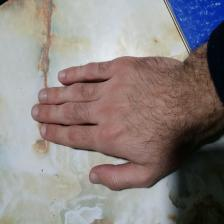five: (23, 55, 195, 195)
